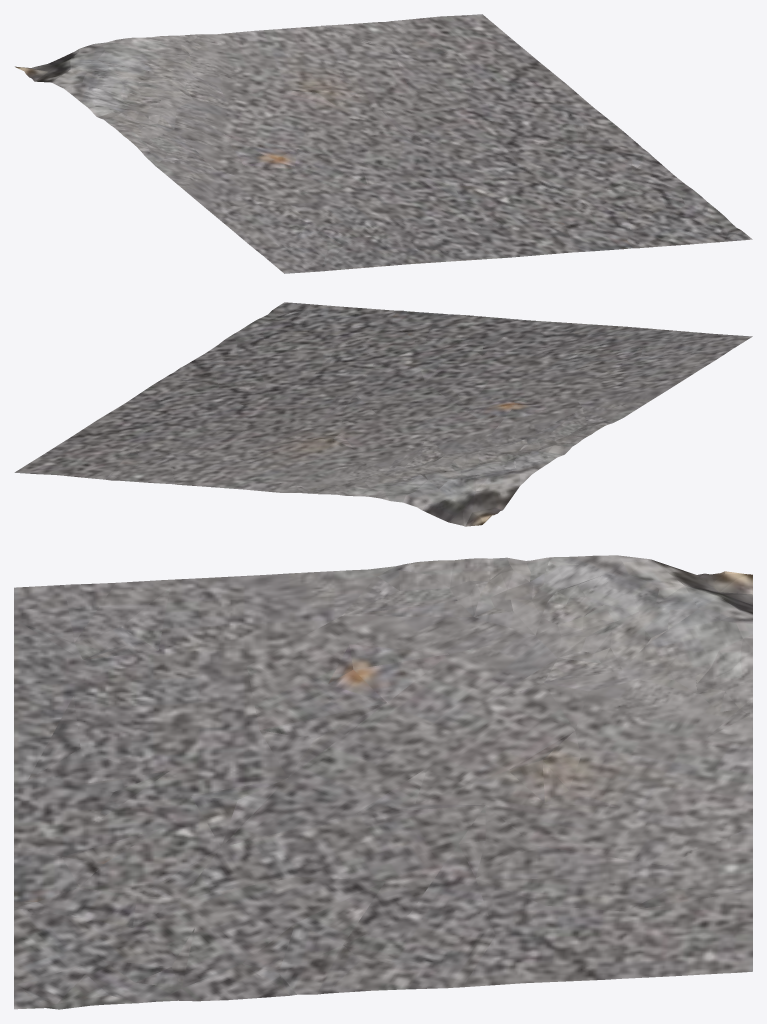
3 renders of one model, top to bottom at view 1: azimuth 30°, elevation 25°; view 2: azimuth 150°, elevation 25°; view 3: azimuth 270°, elevation 25°, orthographic. The views are drawn at different scales.
Bounding box in the file's own units: 0.8374 × 0.1775 × 0.8373.
3 materials, 3 textured.
